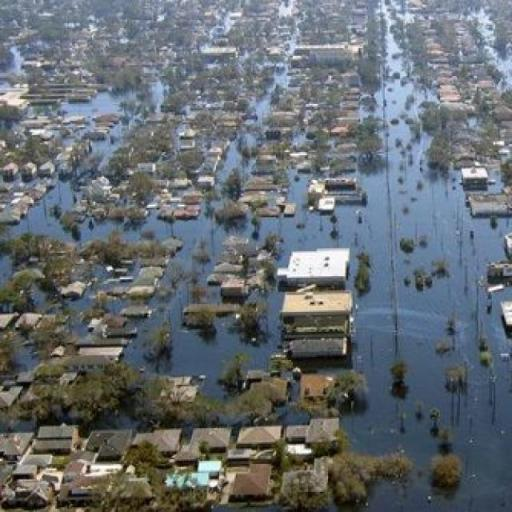flood: (265, 17, 512, 512), (126, 258, 272, 399), (218, 66, 288, 183), (7, 200, 122, 244), (141, 215, 254, 252), (62, 79, 168, 116), (86, 122, 124, 170), (259, 219, 292, 240), (56, 182, 70, 208), (124, 230, 140, 240)
house: (283, 282, 355, 364), (280, 248, 353, 288), (224, 456, 278, 502), (83, 423, 139, 464), (308, 176, 366, 210), (458, 163, 508, 200), (206, 272, 247, 305), (190, 424, 233, 452), (305, 416, 340, 444), (485, 257, 512, 293), (150, 428, 184, 454), (237, 426, 281, 444), (37, 424, 78, 442), (500, 291, 512, 334), (285, 423, 311, 440)
